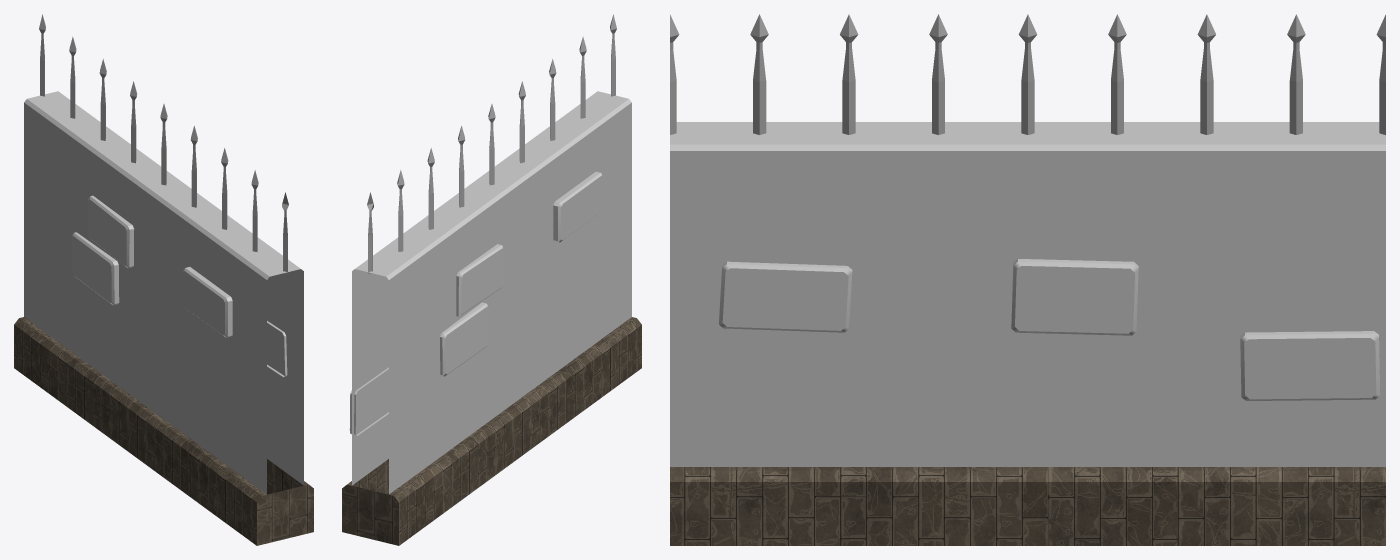
The model's file is MainWall.fbx.
The picture shows the model from 3 angles, left to right: view 1: azimuth 30°, elevation 25°; view 2: azimuth 150°, elevation 25°; view 3: azimuth 270°, elevation 25°; orthographic projection. The views are drawn at different scales.
Parts seen in each view (by area): view 1: MainWallSpikes; view 2: MainWallSpikes; view 3: MainWallSpikes.
Boxes of the visible parts, x1=… form: MainWallSpikes: x1=14, y1=14, x2=313, y2=545; MainWallSpikes: x1=342, y1=14, x2=641, y2=545; MainWallSpikes: x1=670, y1=14, x2=1385, y2=545.
Size of the model in its own units: 0.6345 by 3.69 by 4.68.
